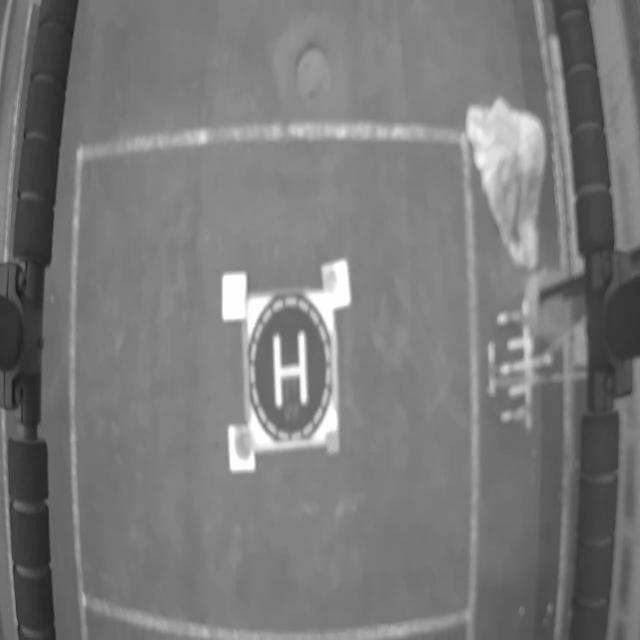Helipad: (272, 333, 310, 409)
